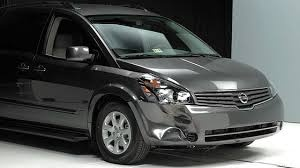Broken-glass: (139, 73, 195, 109)
Dent: (144, 106, 200, 143)
